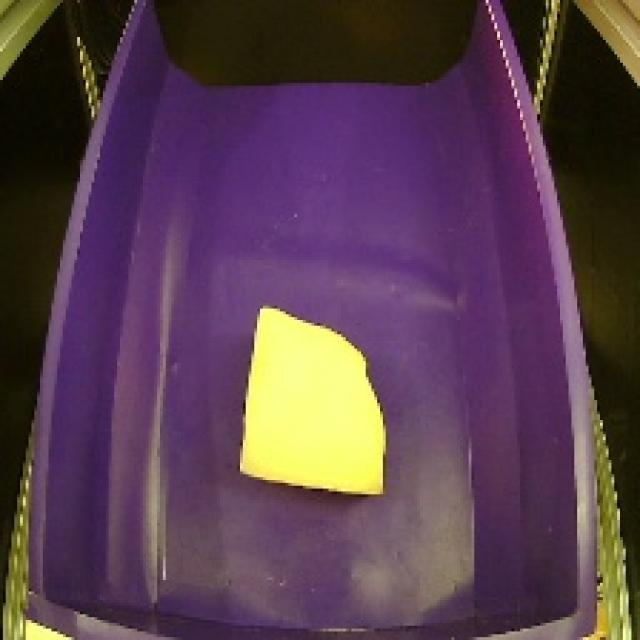potato: (224, 294, 393, 510)
